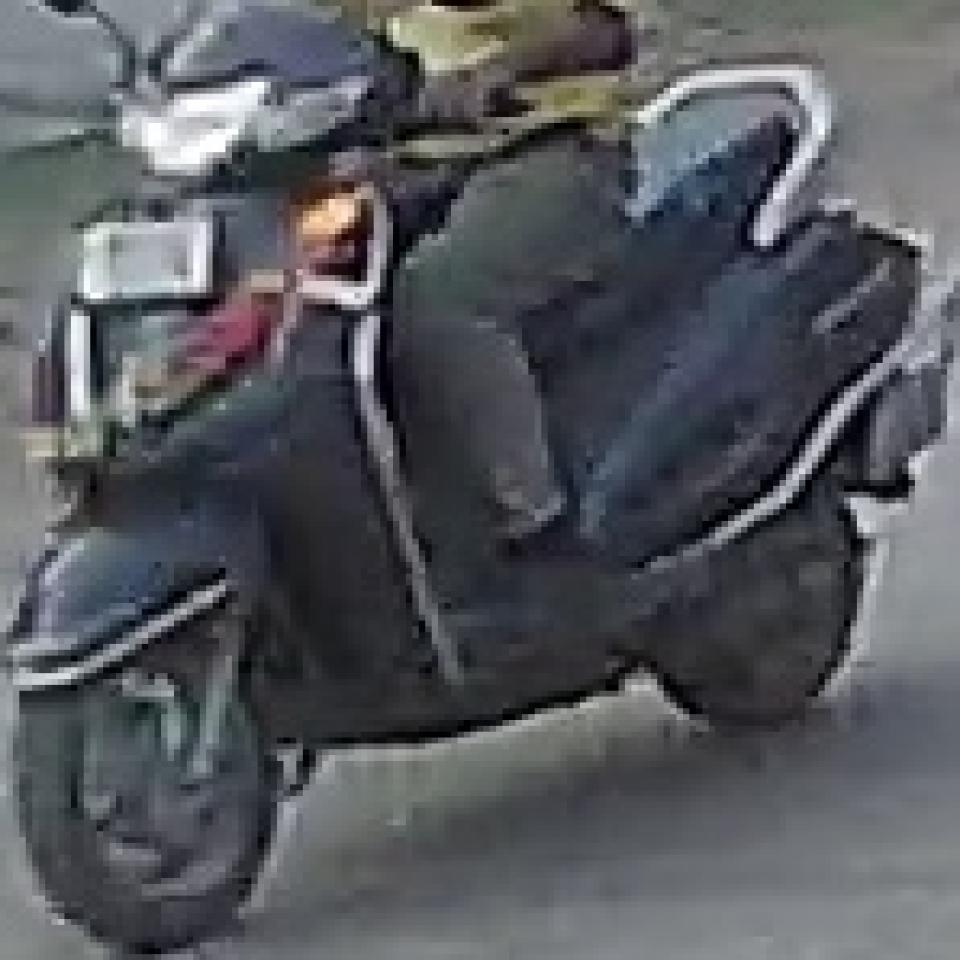head_light: (118, 63, 272, 177)
